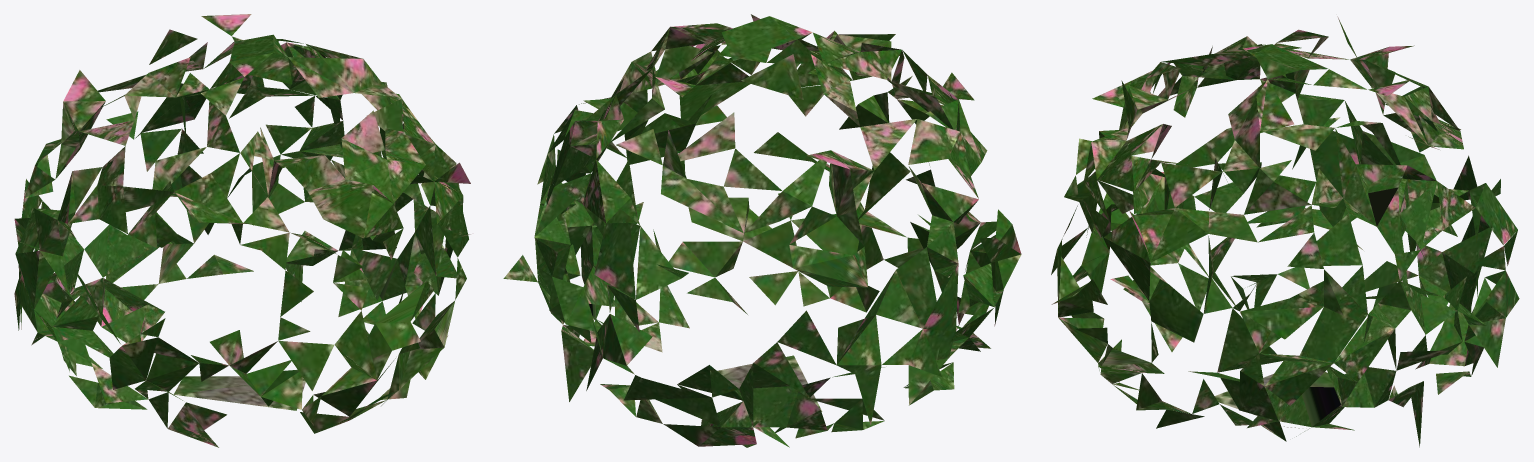
File: shrub.glb
The picture shows the model from 3 angles, left to right: view 1: azimuth 30°, elevation 25°; view 2: azimuth 150°, elevation 25°; view 3: azimuth 270°, elevation 25°; orthographic projection. The views are drawn at different scales.
Parts seen in each view (by area): view 1: output_unwrapped; view 2: output_unwrapped; view 3: output_unwrapped.
Boxes of the visible parts, x1,y1,x2,y2 form: output_unwrapped: (14, 14, 470, 447); output_unwrapped: (503, 14, 1021, 447); output_unwrapped: (1051, 16, 1519, 447).
Bounding box in the file's own units: 1.73 × 1.45 × 1.72.
1 material, 1 textured.
